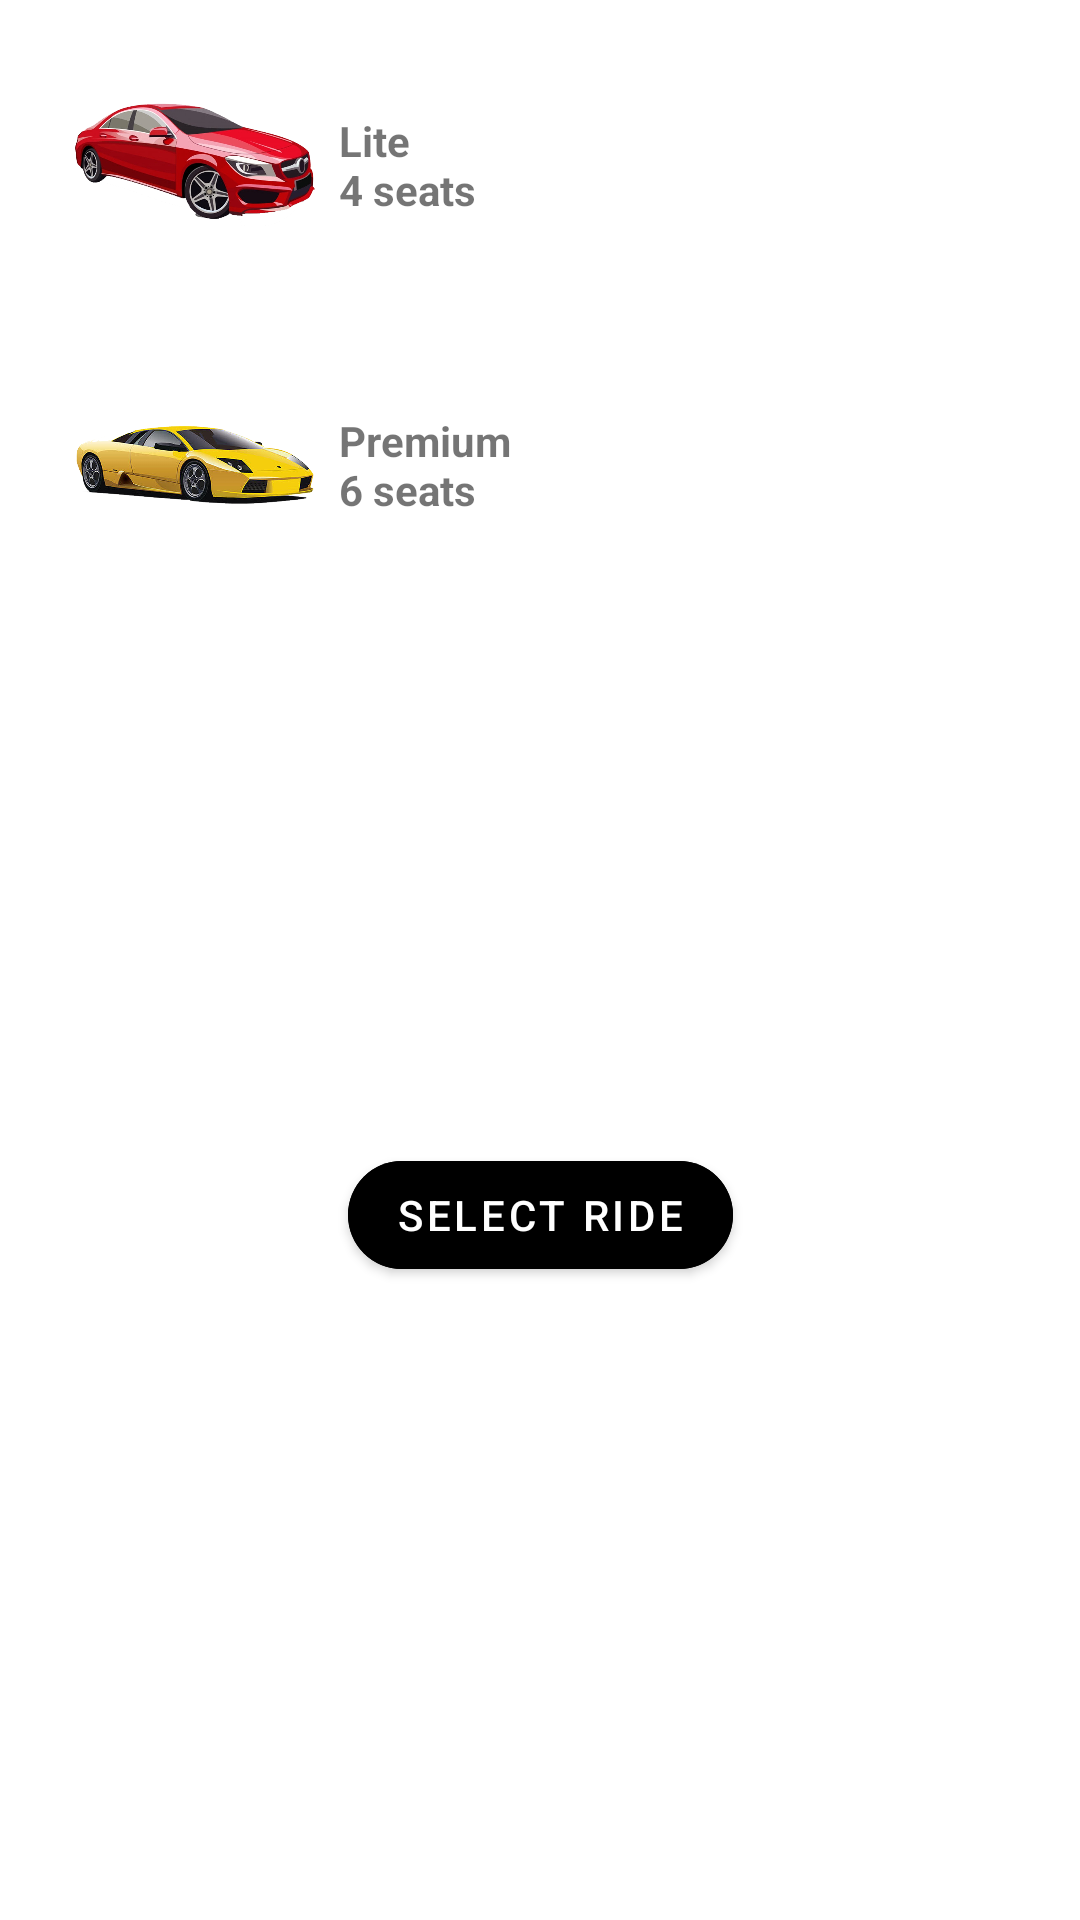

Screen size 1080x1920. Icon name, then its center in pixels as (x=x, y=y):
car: (x=195, y=161), (x=195, y=465)
